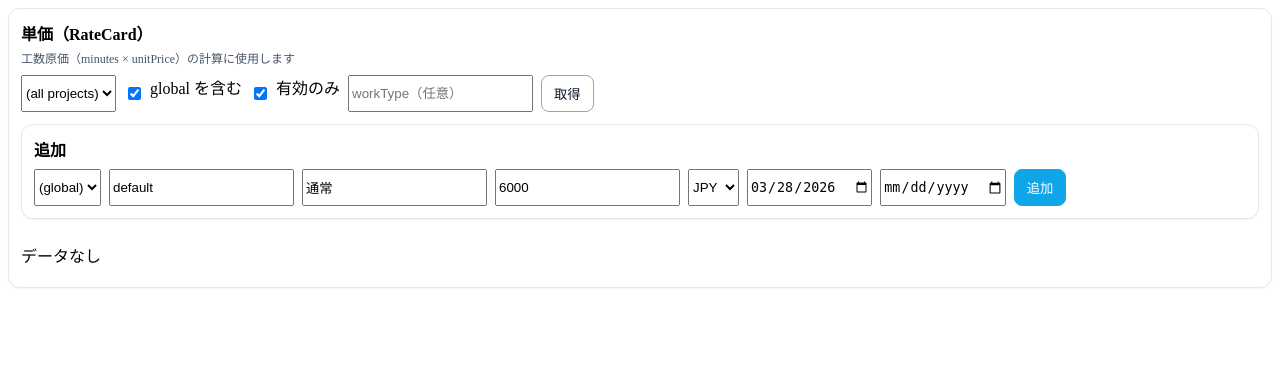
RateCardSettingsCard › loads rate cards and renders the resolved project label
This screenshot has width=1280, height=382.
Click the button "取得" at x=567, y=94, box x1=541 y1=75 x2=594 y2=112
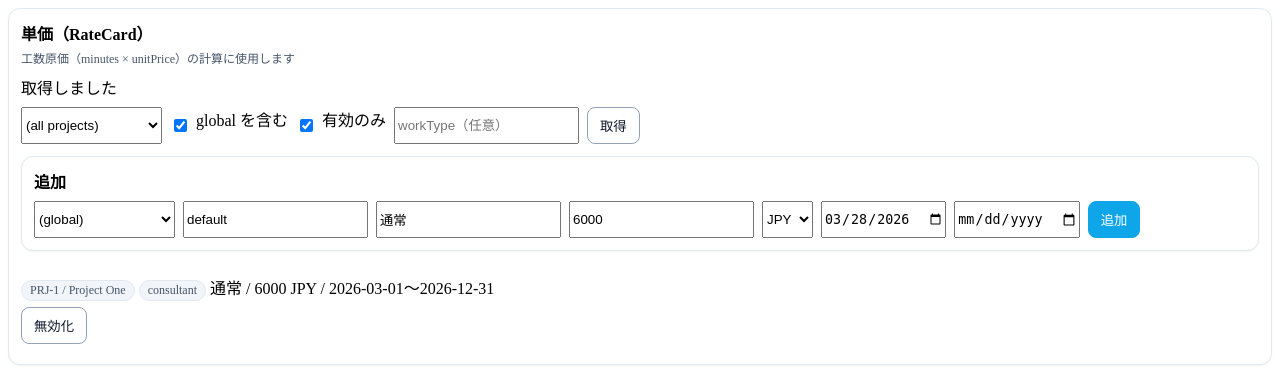
Expected: the text "取得しました" is shown, x1=21 y1=80 x2=117 y2=97
Expected: the text "PRJ-1 / Project One" is shown, x1=21 y1=280 x2=135 y2=301
Expected: the text "consultant" is shown, x1=139 y1=280 x2=206 y2=301
